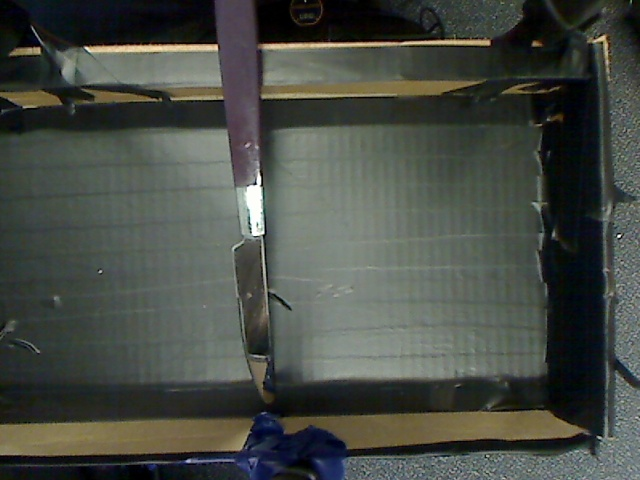knife: (199, 1, 301, 416)
